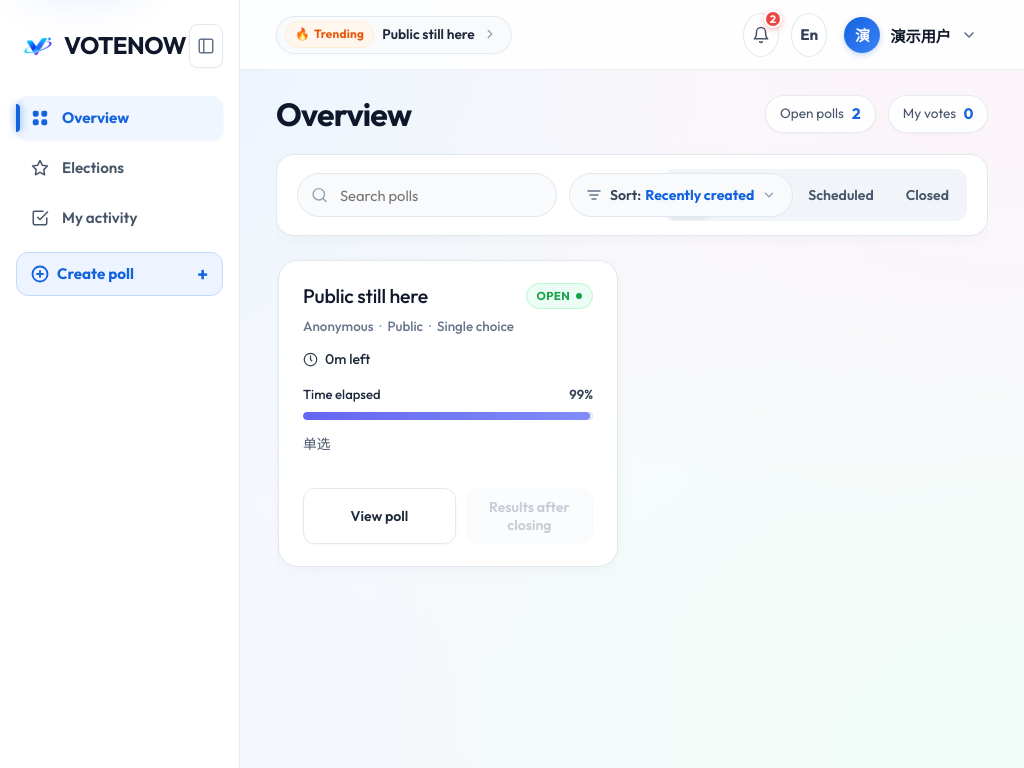
Test case: DashboardPage › 概览按正常公开列表展示，支持状态筛选且不包含独立示例区
Expected: the link "Public still here" is shown, [303,283,428,308]
Click the button "Scheduled" at (841, 195), box [794,173,888,217]
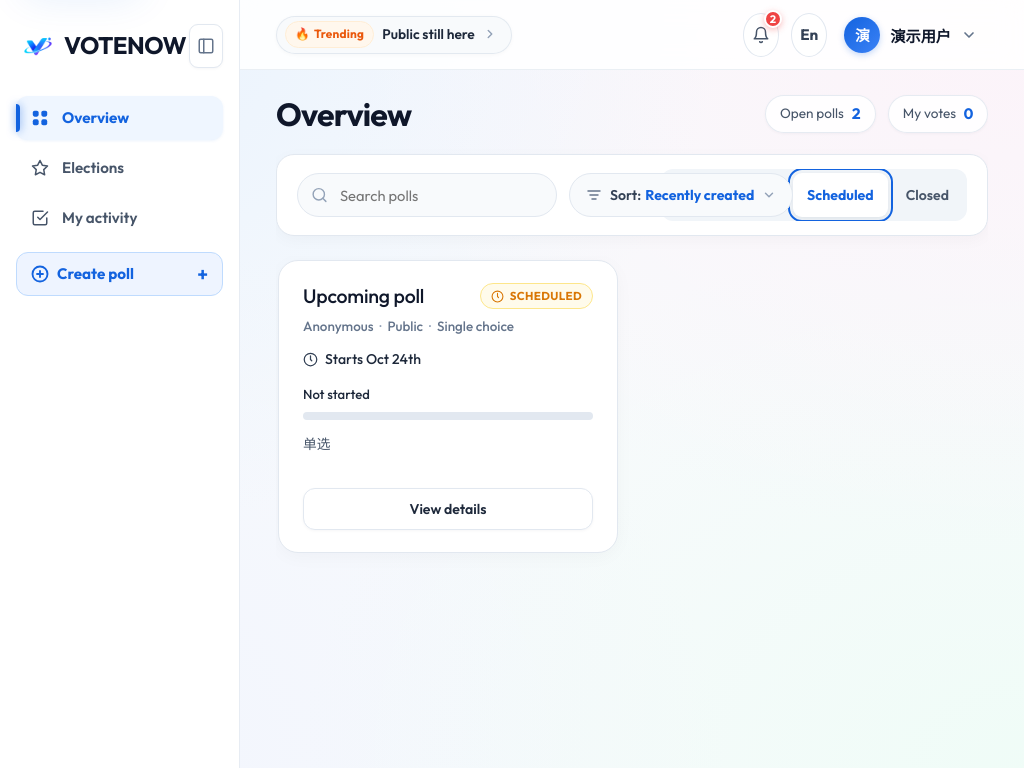
Expected: the link "Upcoming poll" is shown, [303,283,424,308]
Expected: the text "SCHEDULED" is shown, [510,287,582,305]
Click the button named "Sort by: Recently created" at (681, 195), box [569,173,793,217]
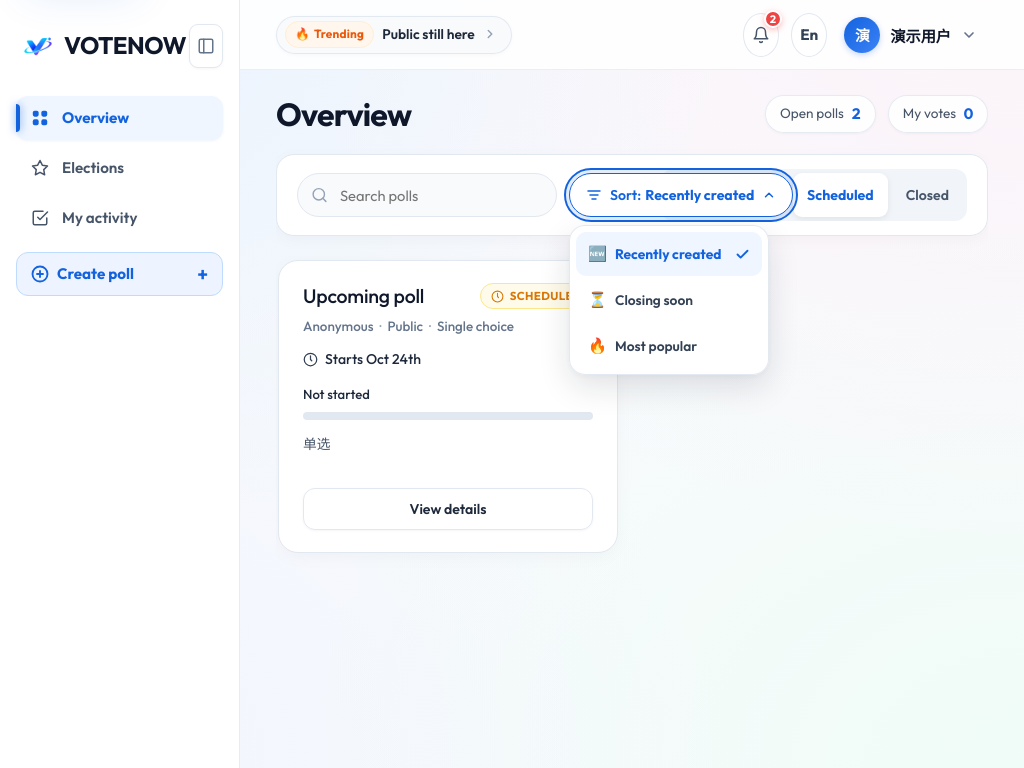
Click the menu item "🔥 Most popular" at (669, 346), box [576,324,762,368]
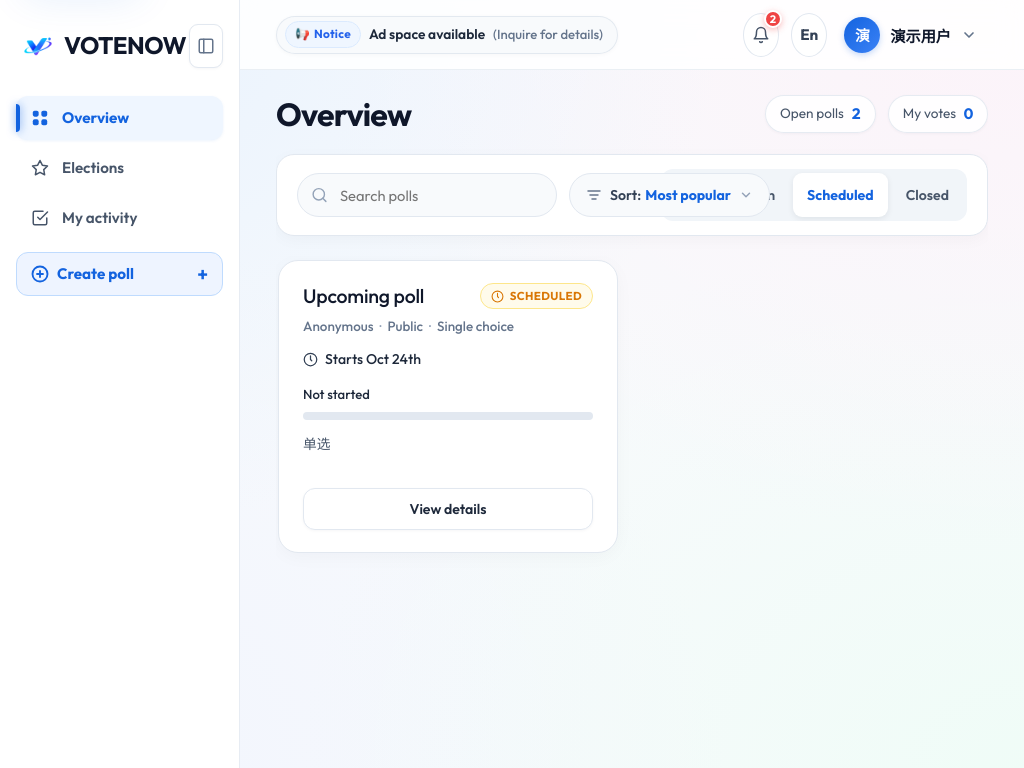
Expected: the text "Most popular" is shown, [645,186,731,204]
